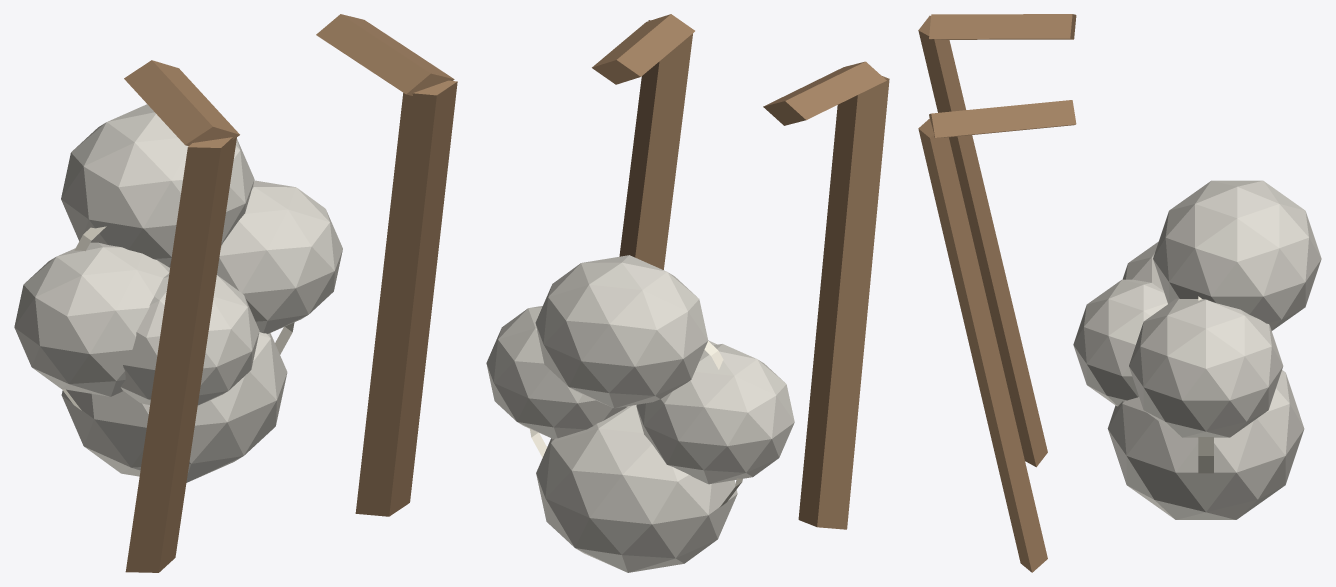
The model's file is load_wool.glb.
The picture shows the model from 3 angles, left to right: view 1: azimuth 30°, elevation 25°; view 2: azimuth 150°, elevation 25°; view 3: azimuth 270°, elevation 25°; orthographic projection. The views are drawn at different scales.
Visible parts, largest first — view 1: Carry.Strap#3, Carry.Strap, Goods.Wool#2, Goods.Wool#4, Goods.Wool#3, Goods.Wool, Goods.Wool#5, Carry.Strap#2, Carry.Strap#4, Carry.Cord; view 2: Carry.Strap, Goods.Wool, Goods.Wool#4, Goods.Wool#2, Carry.Strap#3, Goods.Wool#3, Carry.Strap#4, Carry.Strap#2, Carry.Cord; view 3: Goods.Wool#4, Goods.Wool#3, Goods.Wool, Carry.Strap#3, Carry.Strap, Goods.Wool#5, Carry.Strap#2, Carry.Strap#4, Goods.Wool#2, Carry.Cord.
Boxes of the visible parts, x1,y1,x2,y2 form: Carry.Strap#3: [355, 80, 457, 516]; Carry.Strap: [125, 137, 236, 572]; Goods.Wool#2: [14, 242, 169, 396]; Goods.Wool#4: [61, 104, 254, 267]; Goods.Wool#3: [217, 180, 342, 333]; Goods.Wool: [61, 332, 287, 482]; Goods.Wool#5: [121, 269, 259, 405]; Carry.Strap#2: [124, 60, 239, 146]; Carry.Strap#4: [316, 14, 454, 95]; Carry.Cord: [62, 191, 294, 410]; Carry.Strap: [798, 76, 889, 529]; Goods.Wool: [536, 405, 737, 572]; Goods.Wool#4: [535, 255, 708, 408]; Goods.Wool#2: [636, 344, 794, 484]; Carry.Strap#3: [619, 20, 692, 269]; Goods.Wool#3: [486, 306, 627, 438]; Carry.Strap#4: [592, 14, 694, 84]; Carry.Strap#2: [763, 61, 886, 125]; Carry.Cord: [530, 341, 742, 507]; Goods.Wool#4: [1153, 180, 1321, 330]; Goods.Wool#3: [1129, 298, 1283, 437]; Goods.Wool: [1107, 370, 1304, 519]; Carry.Strap#3: [918, 118, 1047, 572]; Carry.Strap: [918, 15, 1047, 467]; Goods.Wool#5: [1073, 279, 1167, 406]; Carry.Strap#2: [929, 14, 1076, 39]; Carry.Strap#4: [929, 100, 1076, 137]; Goods.Wool#2: [1122, 241, 1163, 290]; Carry.Cord: [1198, 296, 1213, 473].
Size of the model in its own units: 0.4292 by 0.6445 by 0.5165.
